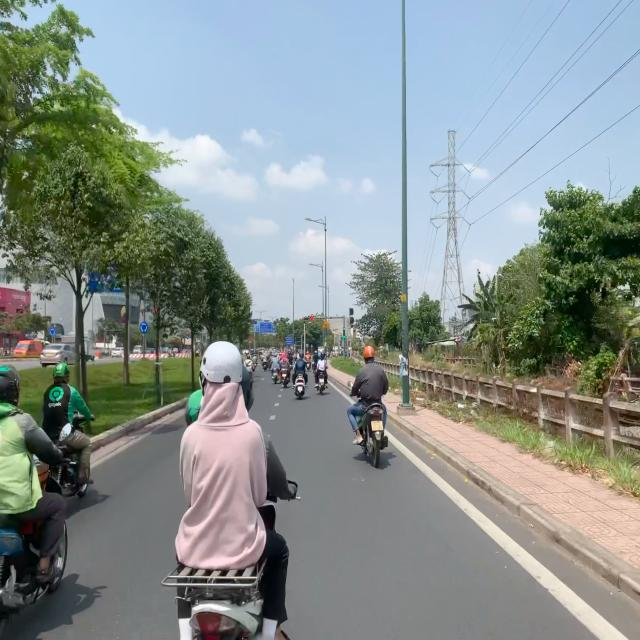Vong xuyen: (140, 321, 148, 333), (50, 328, 56, 336)
